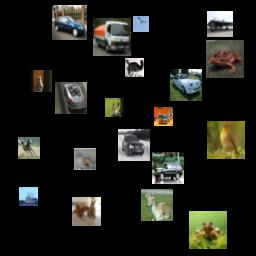airplane: (207, 11, 233, 37), (154, 107, 173, 126), (133, 16, 149, 32)
automobile: (52, 5, 87, 40), (152, 152, 184, 184), (55, 82, 87, 114), (170, 69, 202, 101), (118, 129, 150, 161)
bird: (207, 121, 245, 159), (74, 148, 96, 170)
cat: (72, 197, 101, 226), (30, 70, 52, 92), (125, 58, 144, 77)
deer: (141, 189, 173, 221), (105, 98, 124, 117)
frog: (189, 211, 227, 249), (206, 40, 244, 78)
ship: (19, 187, 38, 206)
truck: (93, 18, 131, 56)
